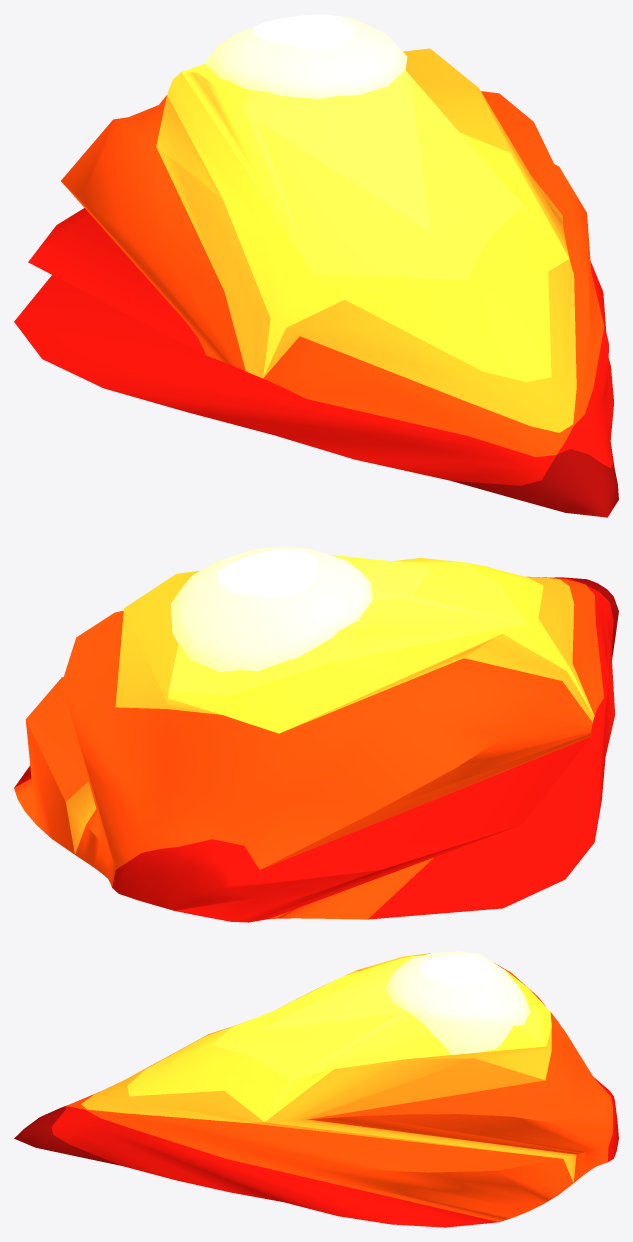
The model's file is shot_dflame_123.glb.
3 renders of one model, top to bottom at view 1: azimuth 30°, elevation 25°; view 2: azimuth 150°, elevation 25°; view 3: azimuth 270°, elevation 25°, orthographic. The views are drawn at different scales.
Parts seen in each view (by area): view 1: shot_dflame_123_fire, shot_dflame_123_core; view 2: shot_dflame_123_fire, shot_dflame_123_core; view 3: shot_dflame_123_fire, shot_dflame_123_core.
Boxes of the visible parts, <box> form: shot_dflame_123_fire: <box>14,48,618,517</box>; shot_dflame_123_core: <box>205,14,407,98</box>; shot_dflame_123_fire: <box>14,555,618,922</box>; shot_dflame_123_core: <box>170,546,372,671</box>; shot_dflame_123_fire: <box>14,953,618,1227</box>; shot_dflame_123_core: <box>386,951,530,1054</box>.
Size of the model in its own units: 9.75 by 4.55 by 14.
